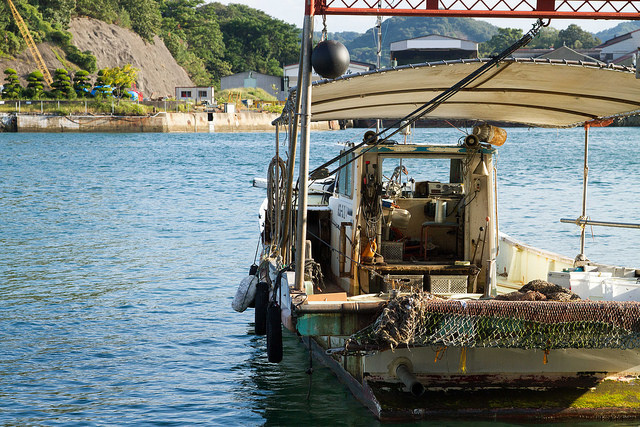fishing_boat: (232, 15, 639, 417)
